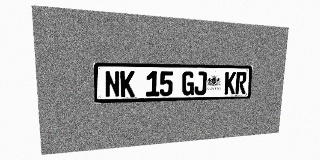1: (146, 71, 160, 96)
5: (160, 71, 173, 96)
G: (182, 71, 195, 96)
J: (194, 71, 207, 95)
K: (120, 71, 135, 97), (224, 72, 236, 94)
N: (104, 71, 120, 98)
R: (235, 72, 247, 94)
